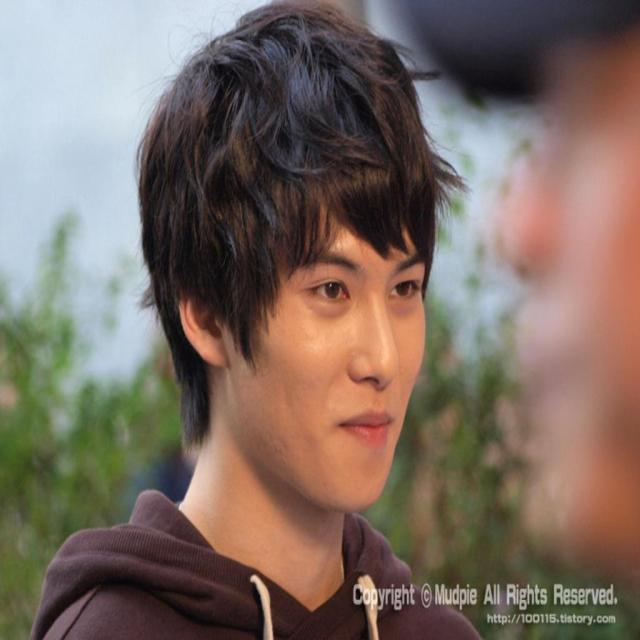Face: (203, 146, 442, 518)
